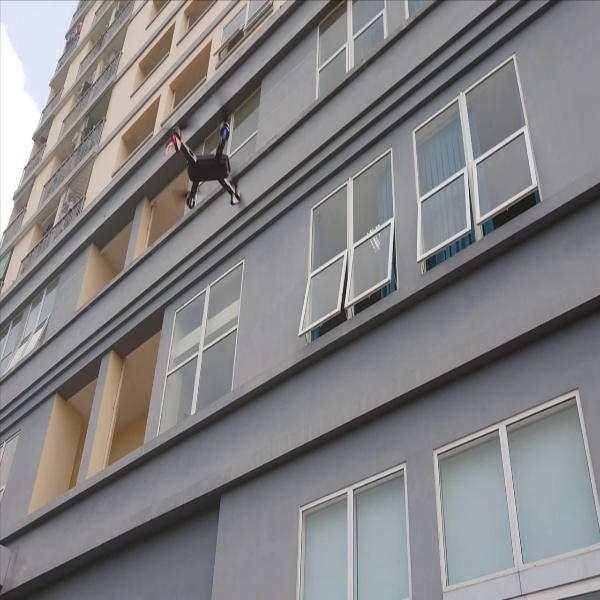drone: (161, 103, 255, 213)
